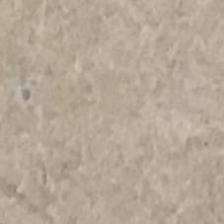Non_Crack: (28, 34, 206, 174)
